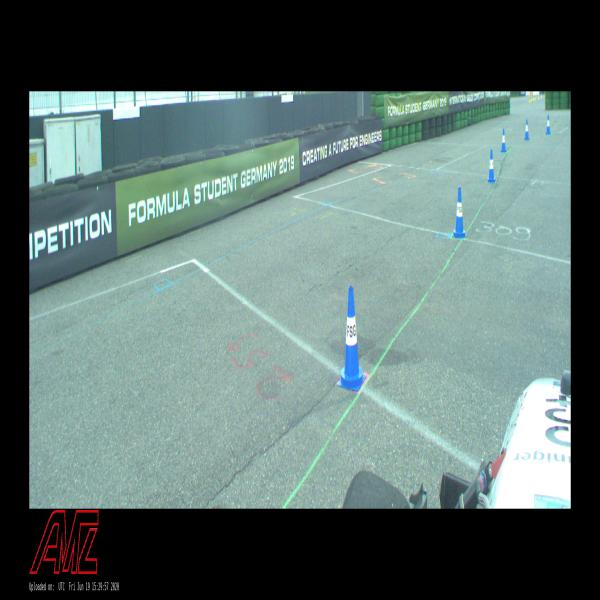blue_cone: (338, 286, 366, 391), (452, 187, 466, 238), (488, 150, 495, 183), (524, 120, 530, 140), (501, 128, 506, 152), (545, 115, 551, 134)
